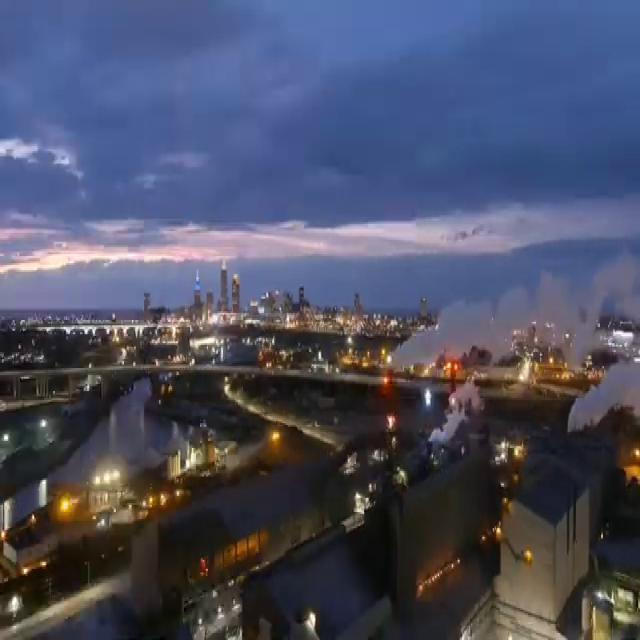smoke: (397, 277, 610, 364), (419, 377, 484, 466), (567, 363, 640, 430)
